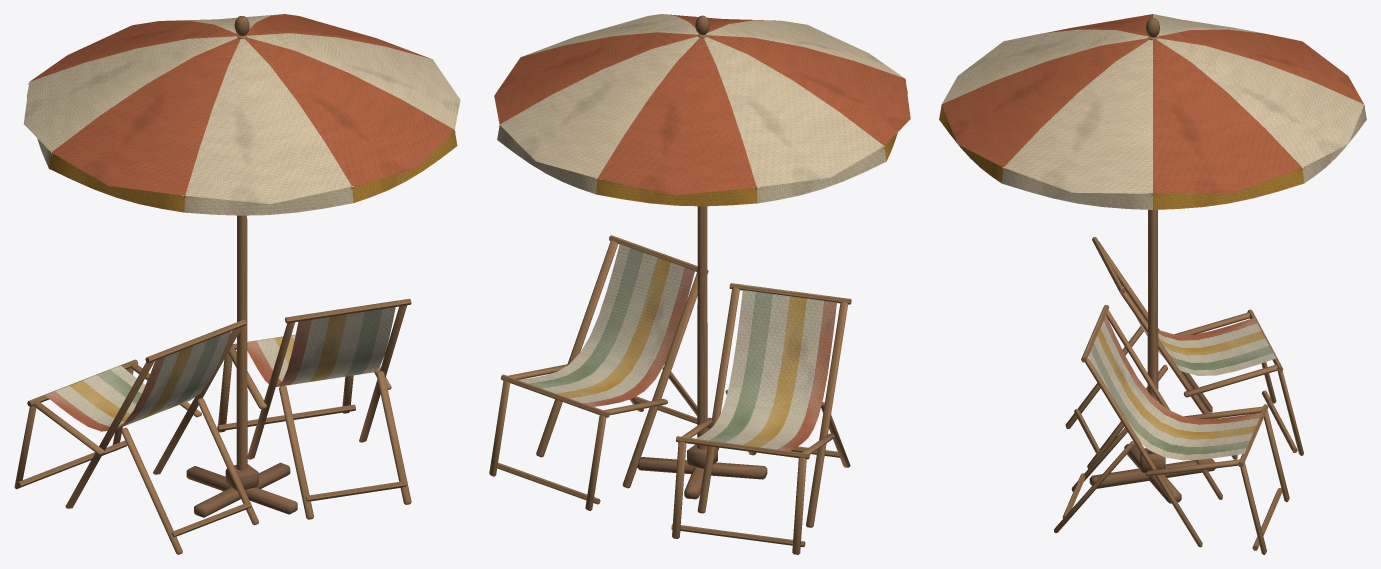
Rendered from beach-parasol.glb.
3 views of the same model, side by side, from view 1: azimuth 30°, elevation 25°; view 2: azimuth 150°, elevation 25°; view 3: azimuth 270°, elevation 25° (orthographic). The views are drawn at different scales.
Visible parts, largest first — view 1: beach-parasol; view 2: beach-parasol; view 3: beach-parasol.
Part boxes in pixels (x1=…): beach-parasol: x1=14, y1=14, x2=460, y2=554; beach-parasol: x1=489, y1=14, x2=910, y2=554; beach-parasol: x1=939, y1=14, x2=1366, y2=554.
Bounding box in the file's own units: 2.02 × 2.4 × 2.02.
Materials: 2 (2 with a texture image).
